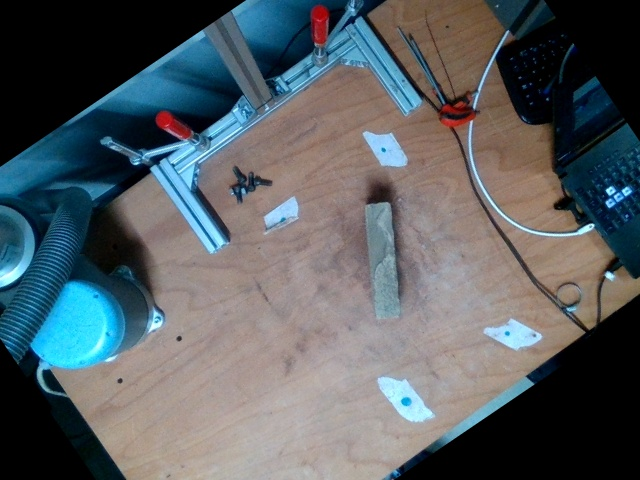brick-side: (368, 201, 400, 319)
